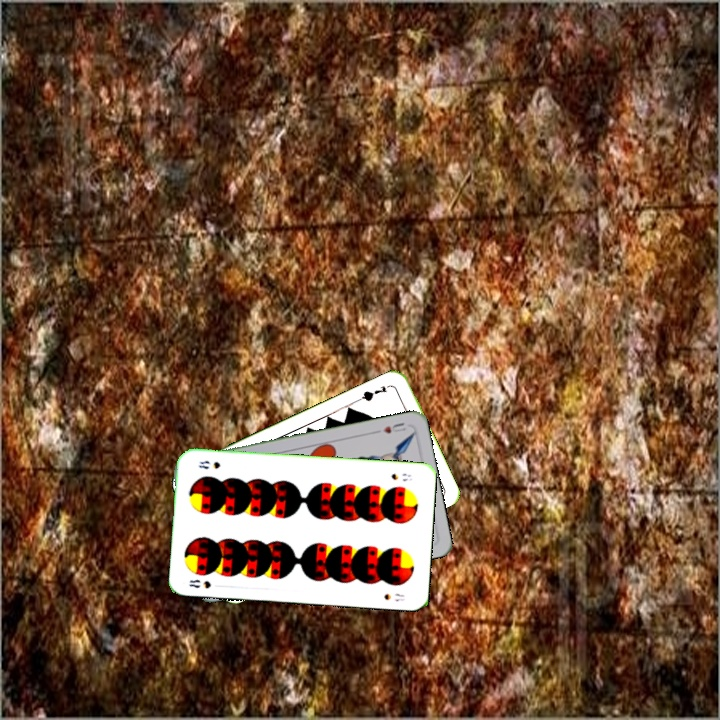G7: (355, 382, 389, 404)
HU: (371, 418, 409, 436)
S8: (185, 576, 213, 591), (387, 469, 414, 484)
